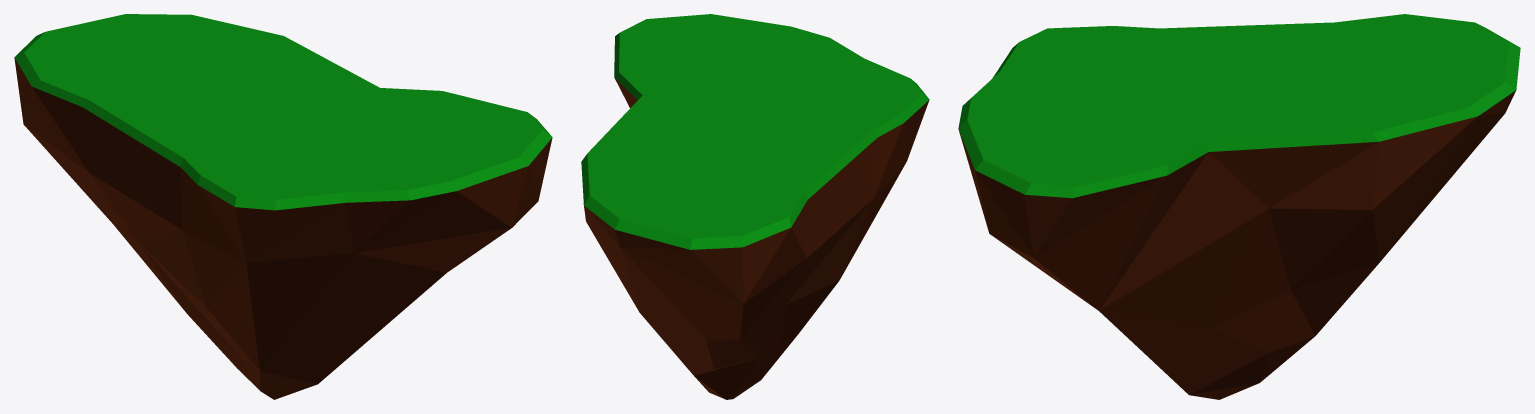
The model's file is FloatingIsland_3.fbx.
The picture shows the model from 3 angles, left to right: view 1: azimuth 30°, elevation 25°; view 2: azimuth 150°, elevation 25°; view 3: azimuth 270°, elevation 25°; orthographic projection. The views are drawn at different scales.
Parts seen in each view (by area): view 1: FloatingIsland_3; view 2: FloatingIsland_3; view 3: FloatingIsland_3.
Part boxes in pixels (bbox=[...]): FloatingIsland_3: bbox=[14, 14, 552, 399]; FloatingIsland_3: bbox=[581, 14, 929, 399]; FloatingIsland_3: bbox=[958, 14, 1520, 399].
Bounding box in the file's own units: 1960 × 1580 × 2596.
